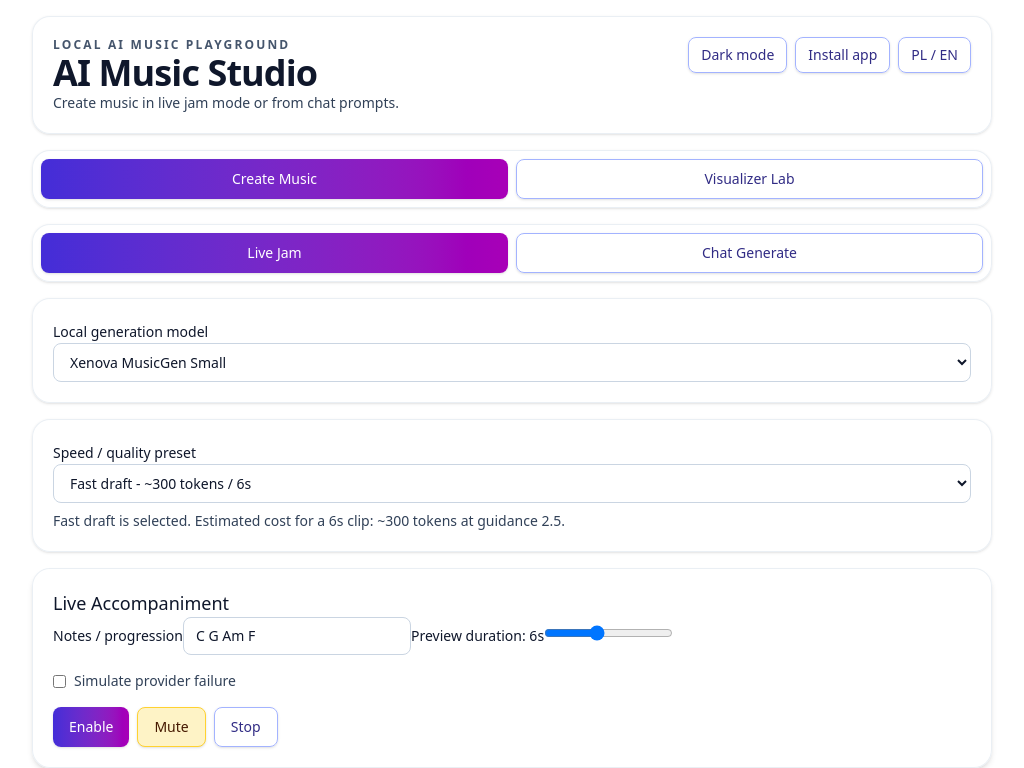
Test: AI music modes integration › supports live mode success and provider failure
Check: the slider named "Preview duration (seconds)" is shown, box x1=544 y1=625 x2=673 y2=641
Click the button with aria-label "Enable accompaniment".
click(91, 727)  # box x1=53 y1=707 x2=129 y2=747
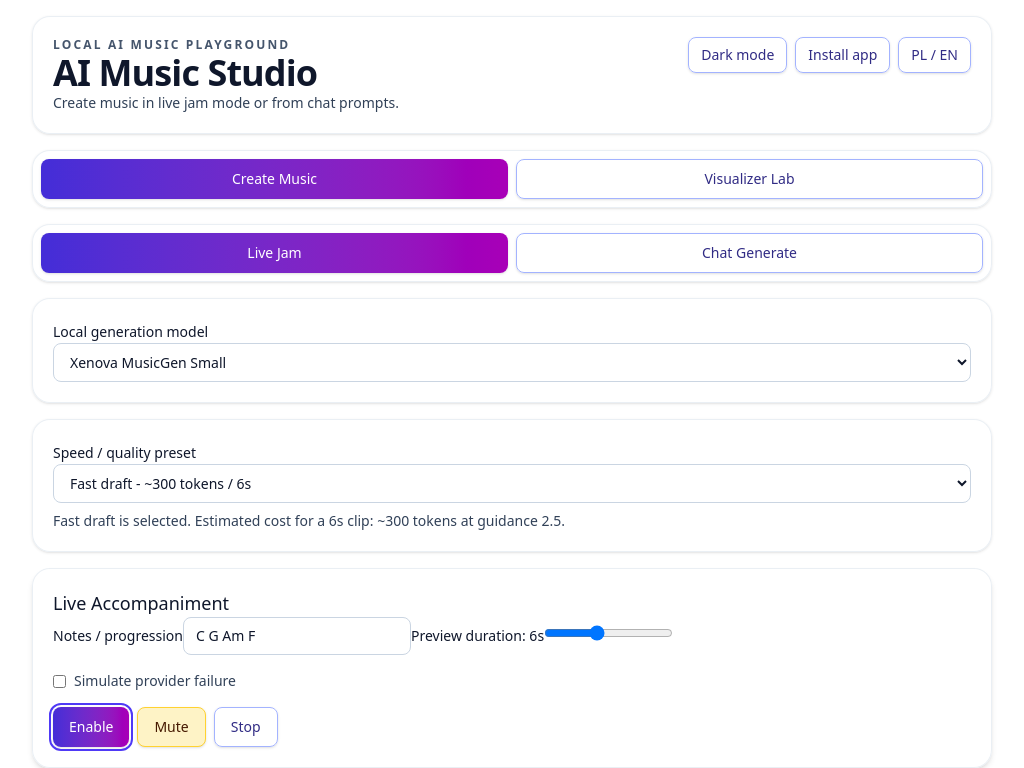
Click the checkbox labelled "Simulate provider failure".
click(60, 681)  # box x1=53 y1=674 x2=66 y2=688
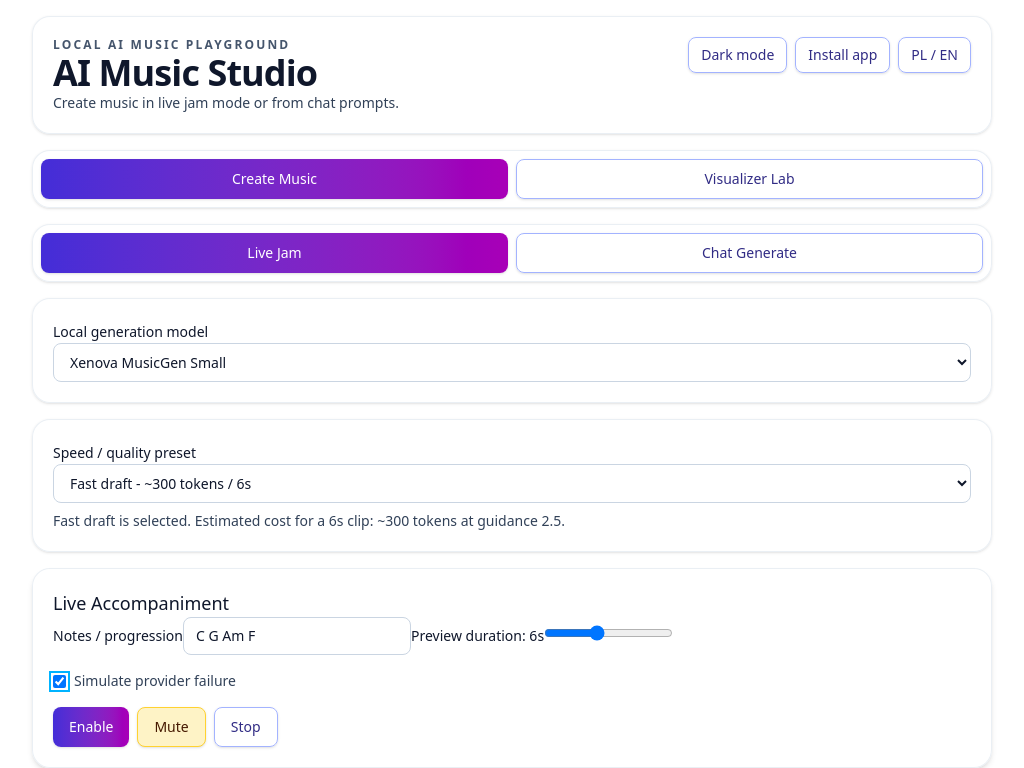
Click the button with aria-label "Enable accompaniment".
click(91, 727)  # box x1=53 y1=707 x2=129 y2=747
(page scrolled)
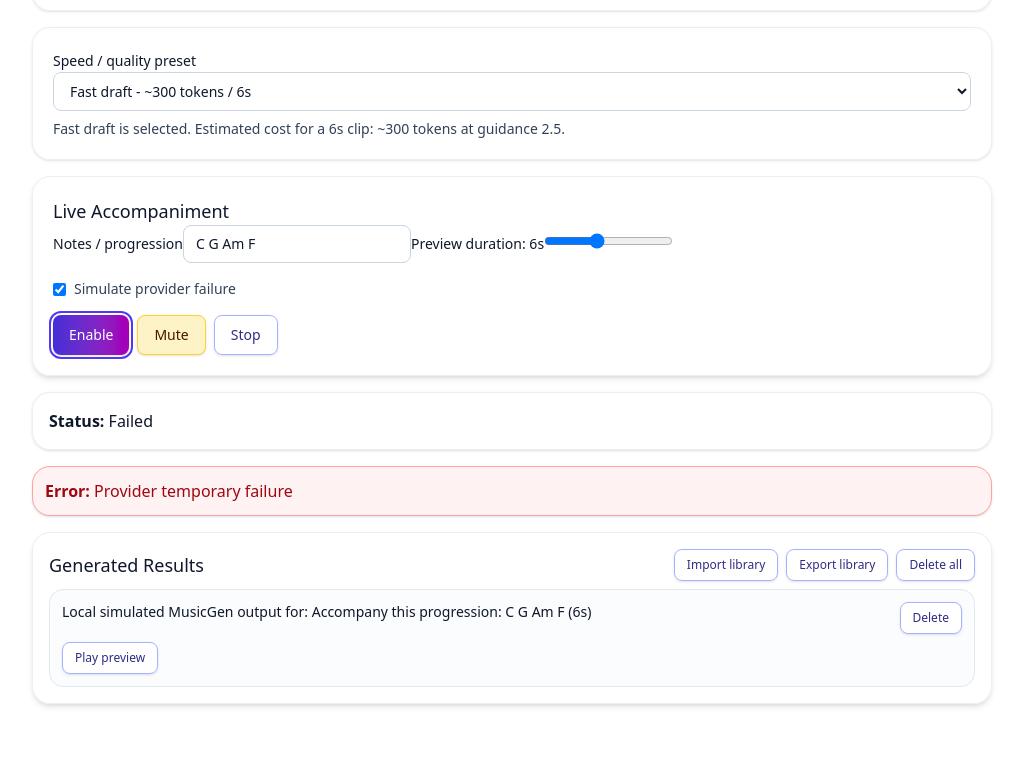
Check: the message "Error: Provider temporary failure" is shown, box x1=32 y1=466 x2=992 y2=516
